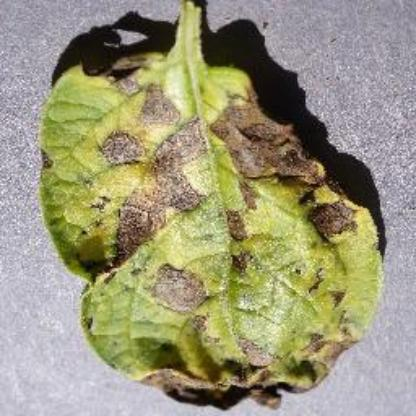Early-Blight: (33, 3, 385, 410)
